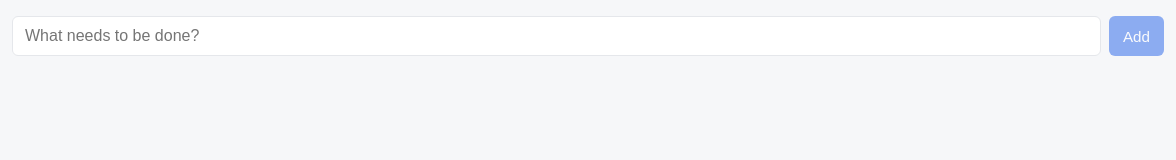
Scenario: TodoForm › submits the trimmed title and clears the input on success
The width and height of the screenshot is (1176, 160).
Step 1. Type "  Ship it  " into the field named "New todo title" → {"x": 556, "y": 36}, box [12, 16, 1101, 56]
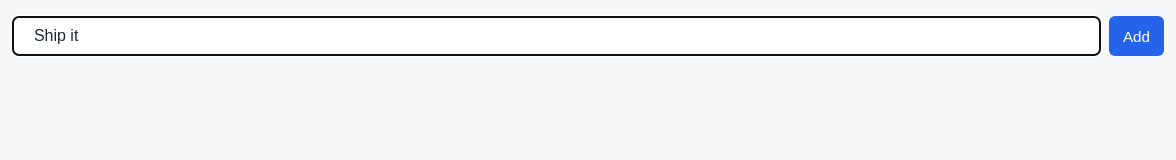
Step 2. Click the button "Add" → {"x": 1136, "y": 36}, box [1109, 16, 1164, 56]
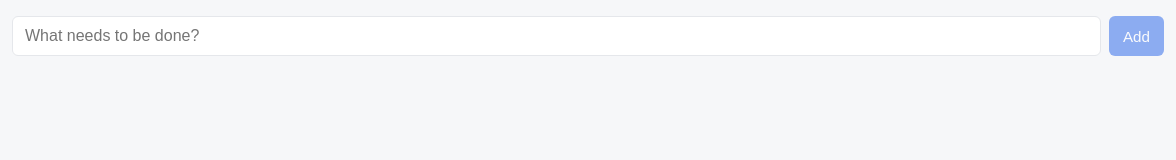
Check: the field named "New todo title" is empty, box [12, 16, 1101, 56]
